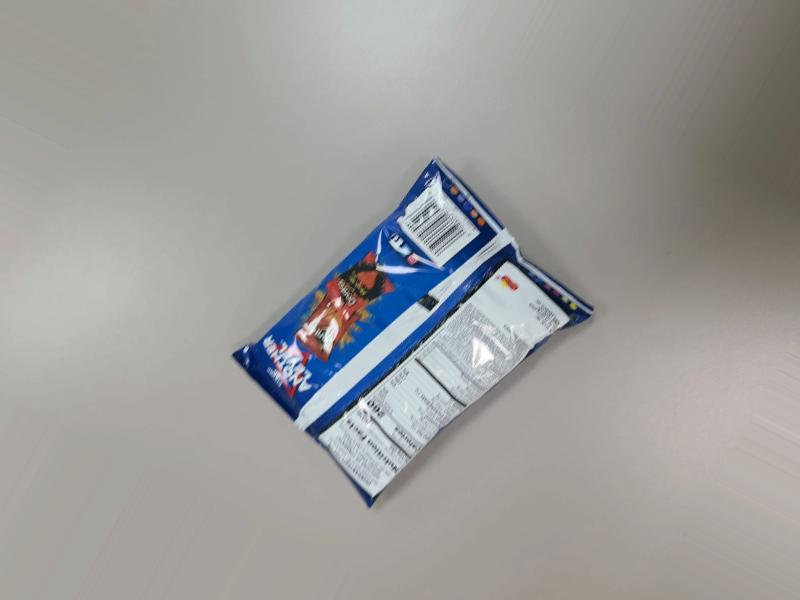doritos: (211, 186, 552, 525)
